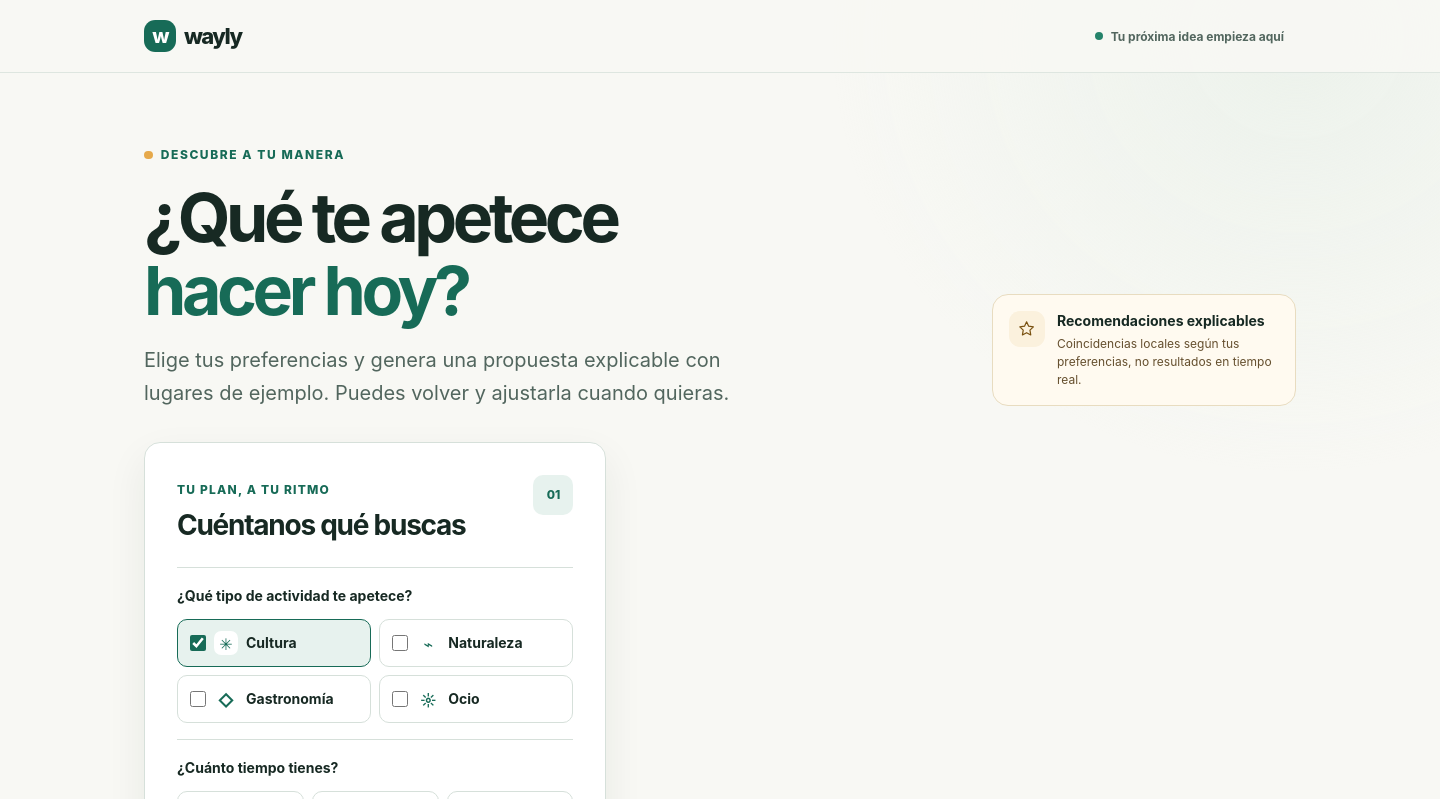
Test: DiscoverPageComponent › filters example places when the activity preference changes
Click the checkbox named "activityType": (400, 643) [392, 635, 408, 651]
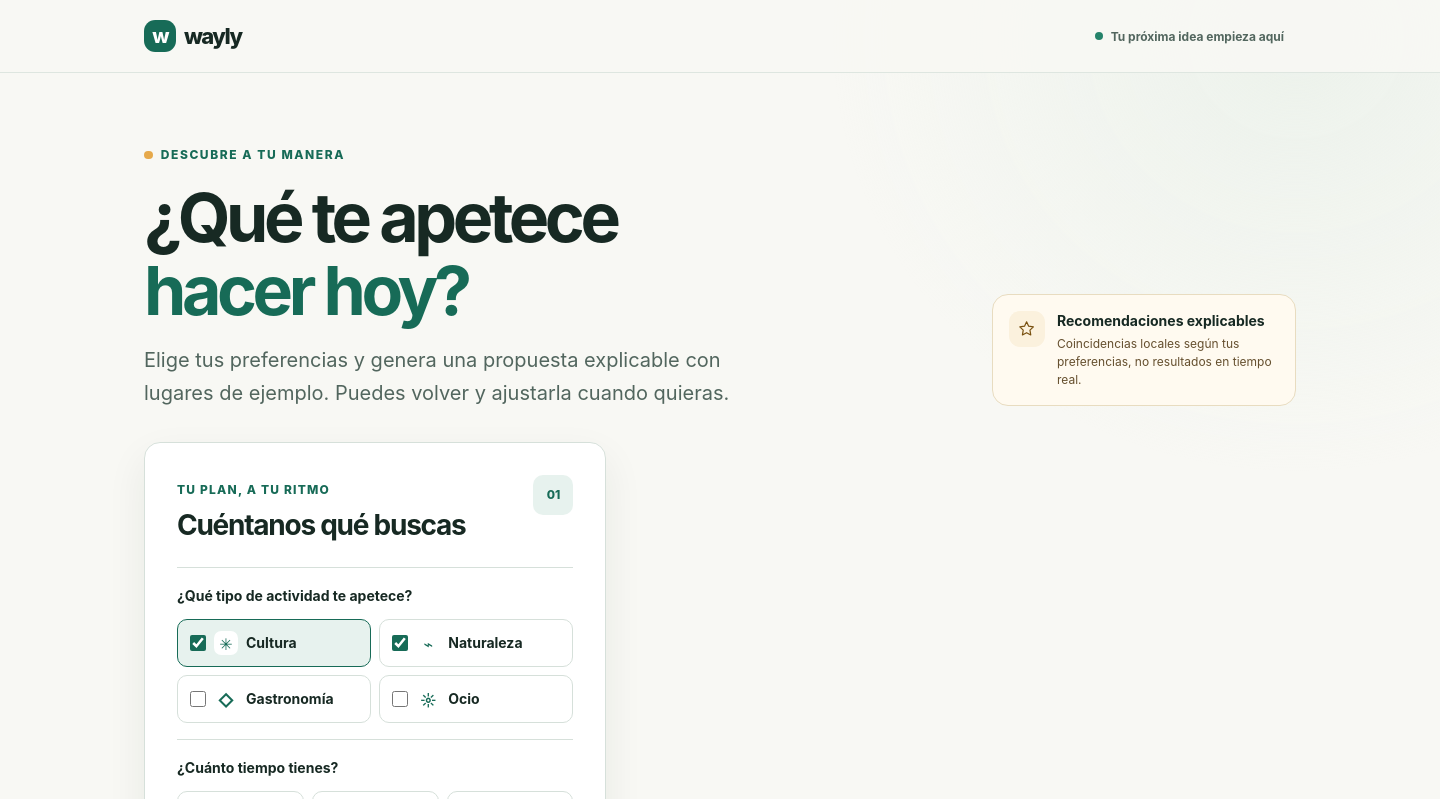
Click the checkbox named "activityType": (198, 643) [190, 635, 206, 651]
(page scrolled)
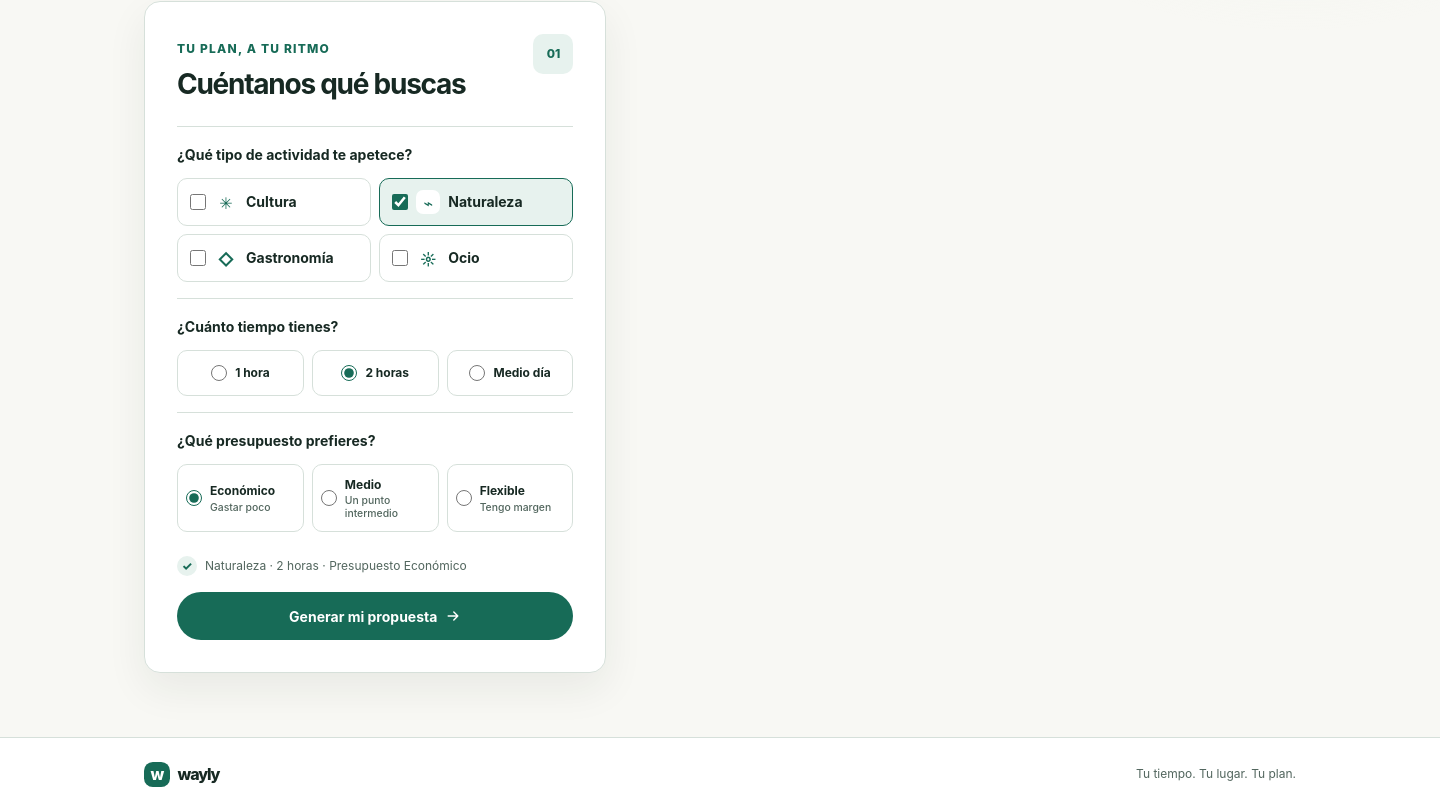
Click the button "Generar mi propuesta": (375, 616) [177, 592, 574, 640]
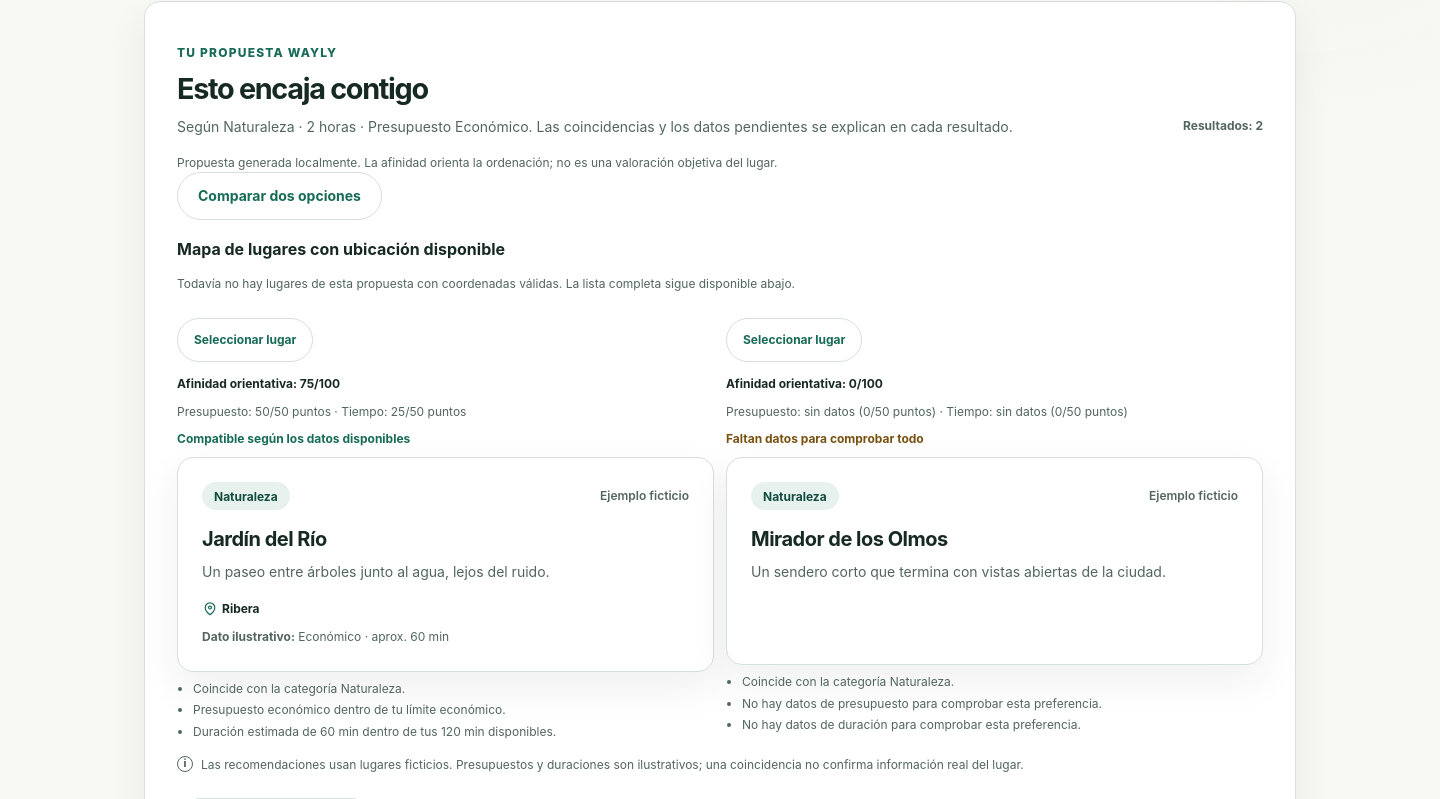
Expected: the text "Jardín del Río" is shown, [202, 526, 327, 552]
Expected: the text "Mirador de los Olmos" is shown, [751, 526, 948, 552]
